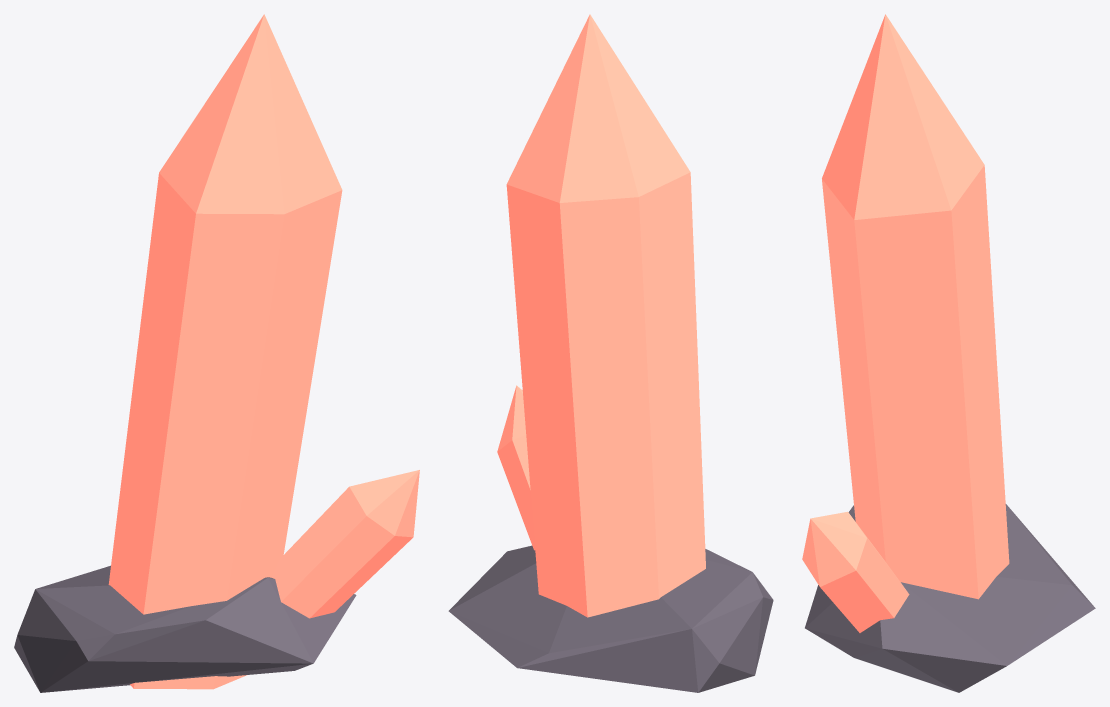
File: Crystal_Single_Red.glb
3 renders of one model, left to right at view 1: azimuth 30°, elevation 25°; view 2: azimuth 150°, elevation 25°; view 3: azimuth 270°, elevation 25°, orthographic. The views are drawn at different scales.
Parts seen in each view (by area): view 1: Crystal_Single_red; view 2: Crystal_Single_red; view 3: Crystal_Single_red.
Boxes of the visible parts, x1=… form: Crystal_Single_red: x1=14, y1=14, x2=419, y2=692; Crystal_Single_red: x1=448, y1=14, x2=773, y2=692; Crystal_Single_red: x1=802, y1=14, x2=1095, y2=692.
Size of the model in its own units: 0.4129 by 0.8165 by 0.3359.
